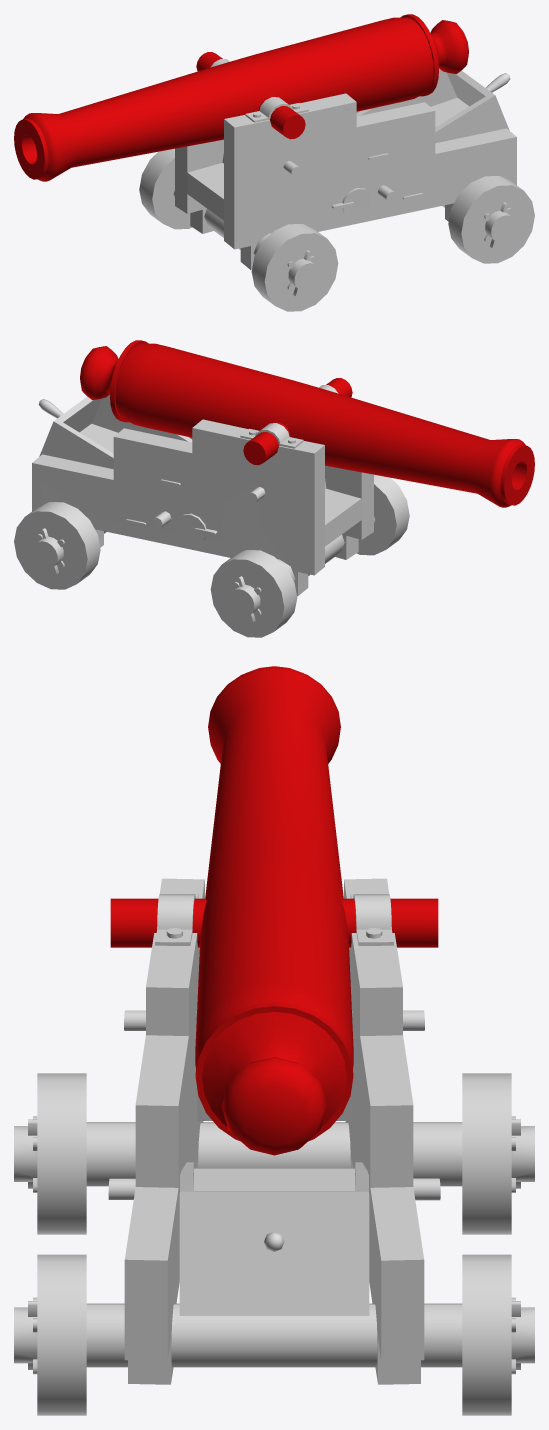
File: armata_lvl_01.fbx
3 renders of one model, top to bottom at view 1: azimuth 30°, elevation 25°; view 2: azimuth 150°, elevation 25°; view 3: azimuth 270°, elevation 25°, orthographic. The views are drawn at different scales.
Parts seen in each view (by area): view 1: 01_armata; view 2: 01_armata; view 3: 01_armata.
Boxes of the visible parts, x1,y1,x2,y2 form: 01_armata: (14, 14, 534, 311); 01_armata: (14, 340, 534, 637); 01_armata: (14, 666, 534, 1415).
Bounding box in the file's own units: 201 × 81.81 × 99.83.
